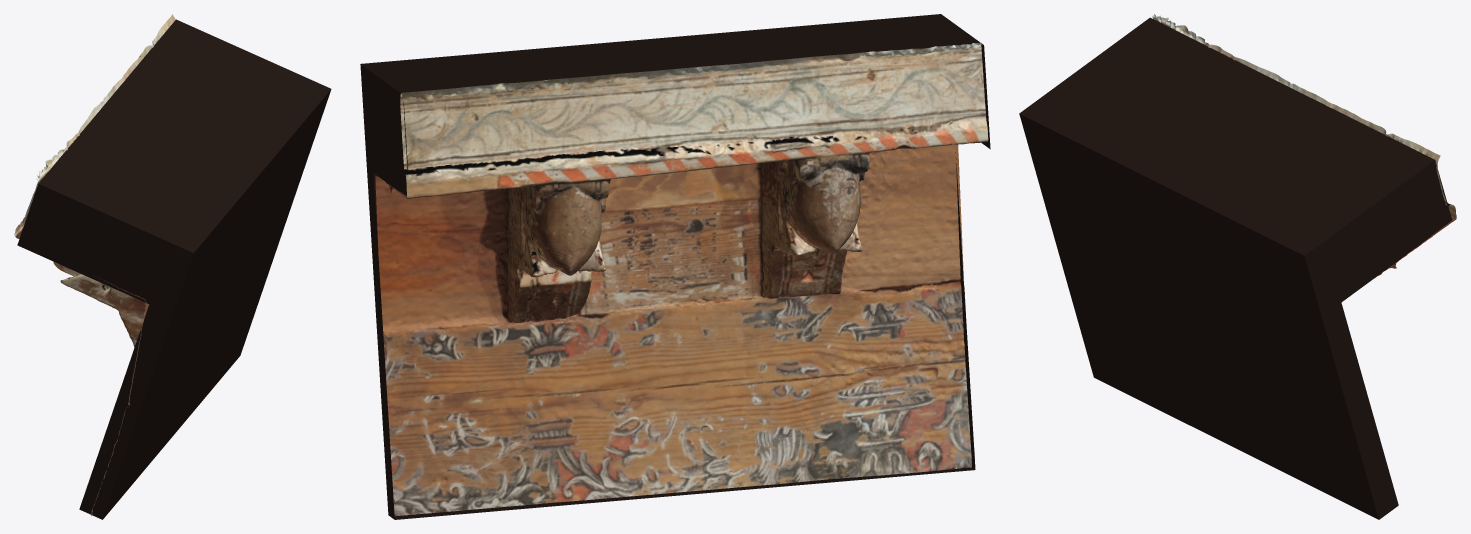
File: weird_artifact.glb
The picture shows the model from 3 angles, left to right: view 1: azimuth 30°, elevation 25°; view 2: azimuth 150°, elevation 25°; view 3: azimuth 270°, elevation 25°; orthographic projection. The views are drawn at different scales.
Parts seen in each view (by area): view 1: Cube_0, tercero_3; view 2: tercero_3, Cube_0; view 3: Cube_0, tercero_3.
Boxes of the visible parts, x1,y1,x2,y2 form: Cube_0: (17,19,331,519); tercero_3: (14,14,175,515); tercero_3: (375,42,988,516); Cube_0: (360,14,990,519); Cube_0: (1019,17,1451,519); tercero_3: (1152,14,1456,277).
Size of the model in its own units: 4.65 by 3.88 by 4.43.
Materials: 2 (1 with a texture image).
